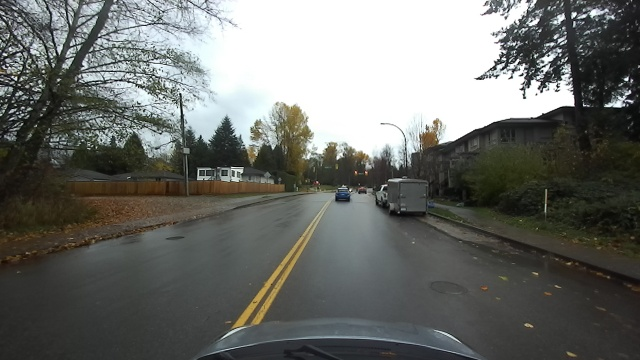car: (377, 176, 428, 213), (333, 185, 352, 201), (356, 185, 369, 195)
